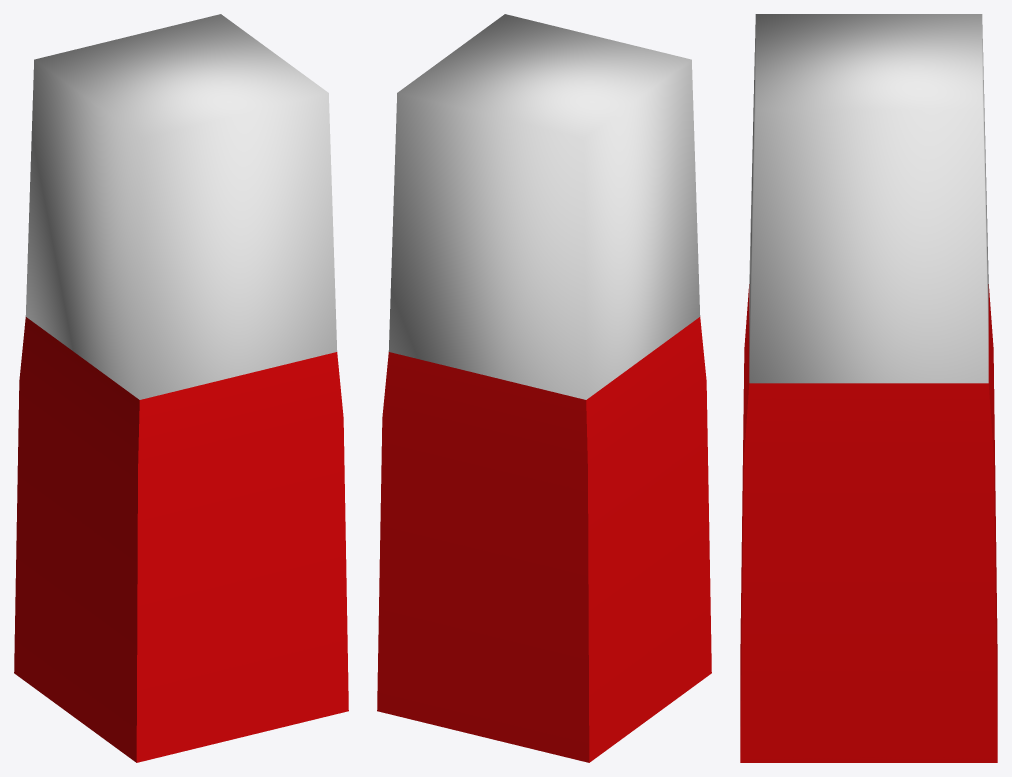
File: Column_A_01_Top.fbx
3 renders of one model, left to right at view 1: azimuth 30°, elevation 25°; view 2: azimuth 150°, elevation 25°; view 3: azimuth 270°, elevation 25°, orthographic. The views are drawn at different scales.
Visible parts, largest first — view 1: Column_A_01_Top, C_Column_A_01_Top; view 2: Column_A_01_Top, C_Column_A_01_Top; view 3: Column_A_01_Top, C_Column_A_01_Top.
Boxes of the visible parts, left/top/right/bottom form: Column_A_01_Top: left=14, top=317, right=348, bottom=762; C_Column_A_01_Top: left=25, top=14, right=337, bottom=399; Column_A_01_Top: left=377, top=317, right=711, bottom=762; C_Column_A_01_Top: left=388, top=14, right=700, bottom=399; Column_A_01_Top: left=740, top=284, right=997, bottom=762; C_Column_A_01_Top: left=749, top=14, right=988, bottom=383.
Bounding box in the file's own units: 0.3605 × 1 × 0.3605.
